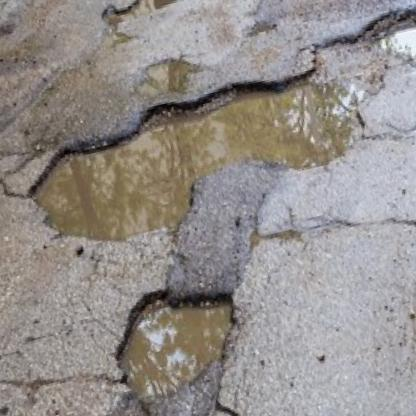pothole: (2, 0, 416, 268), (98, 270, 252, 407), (91, 0, 254, 33), (0, 17, 39, 77)
